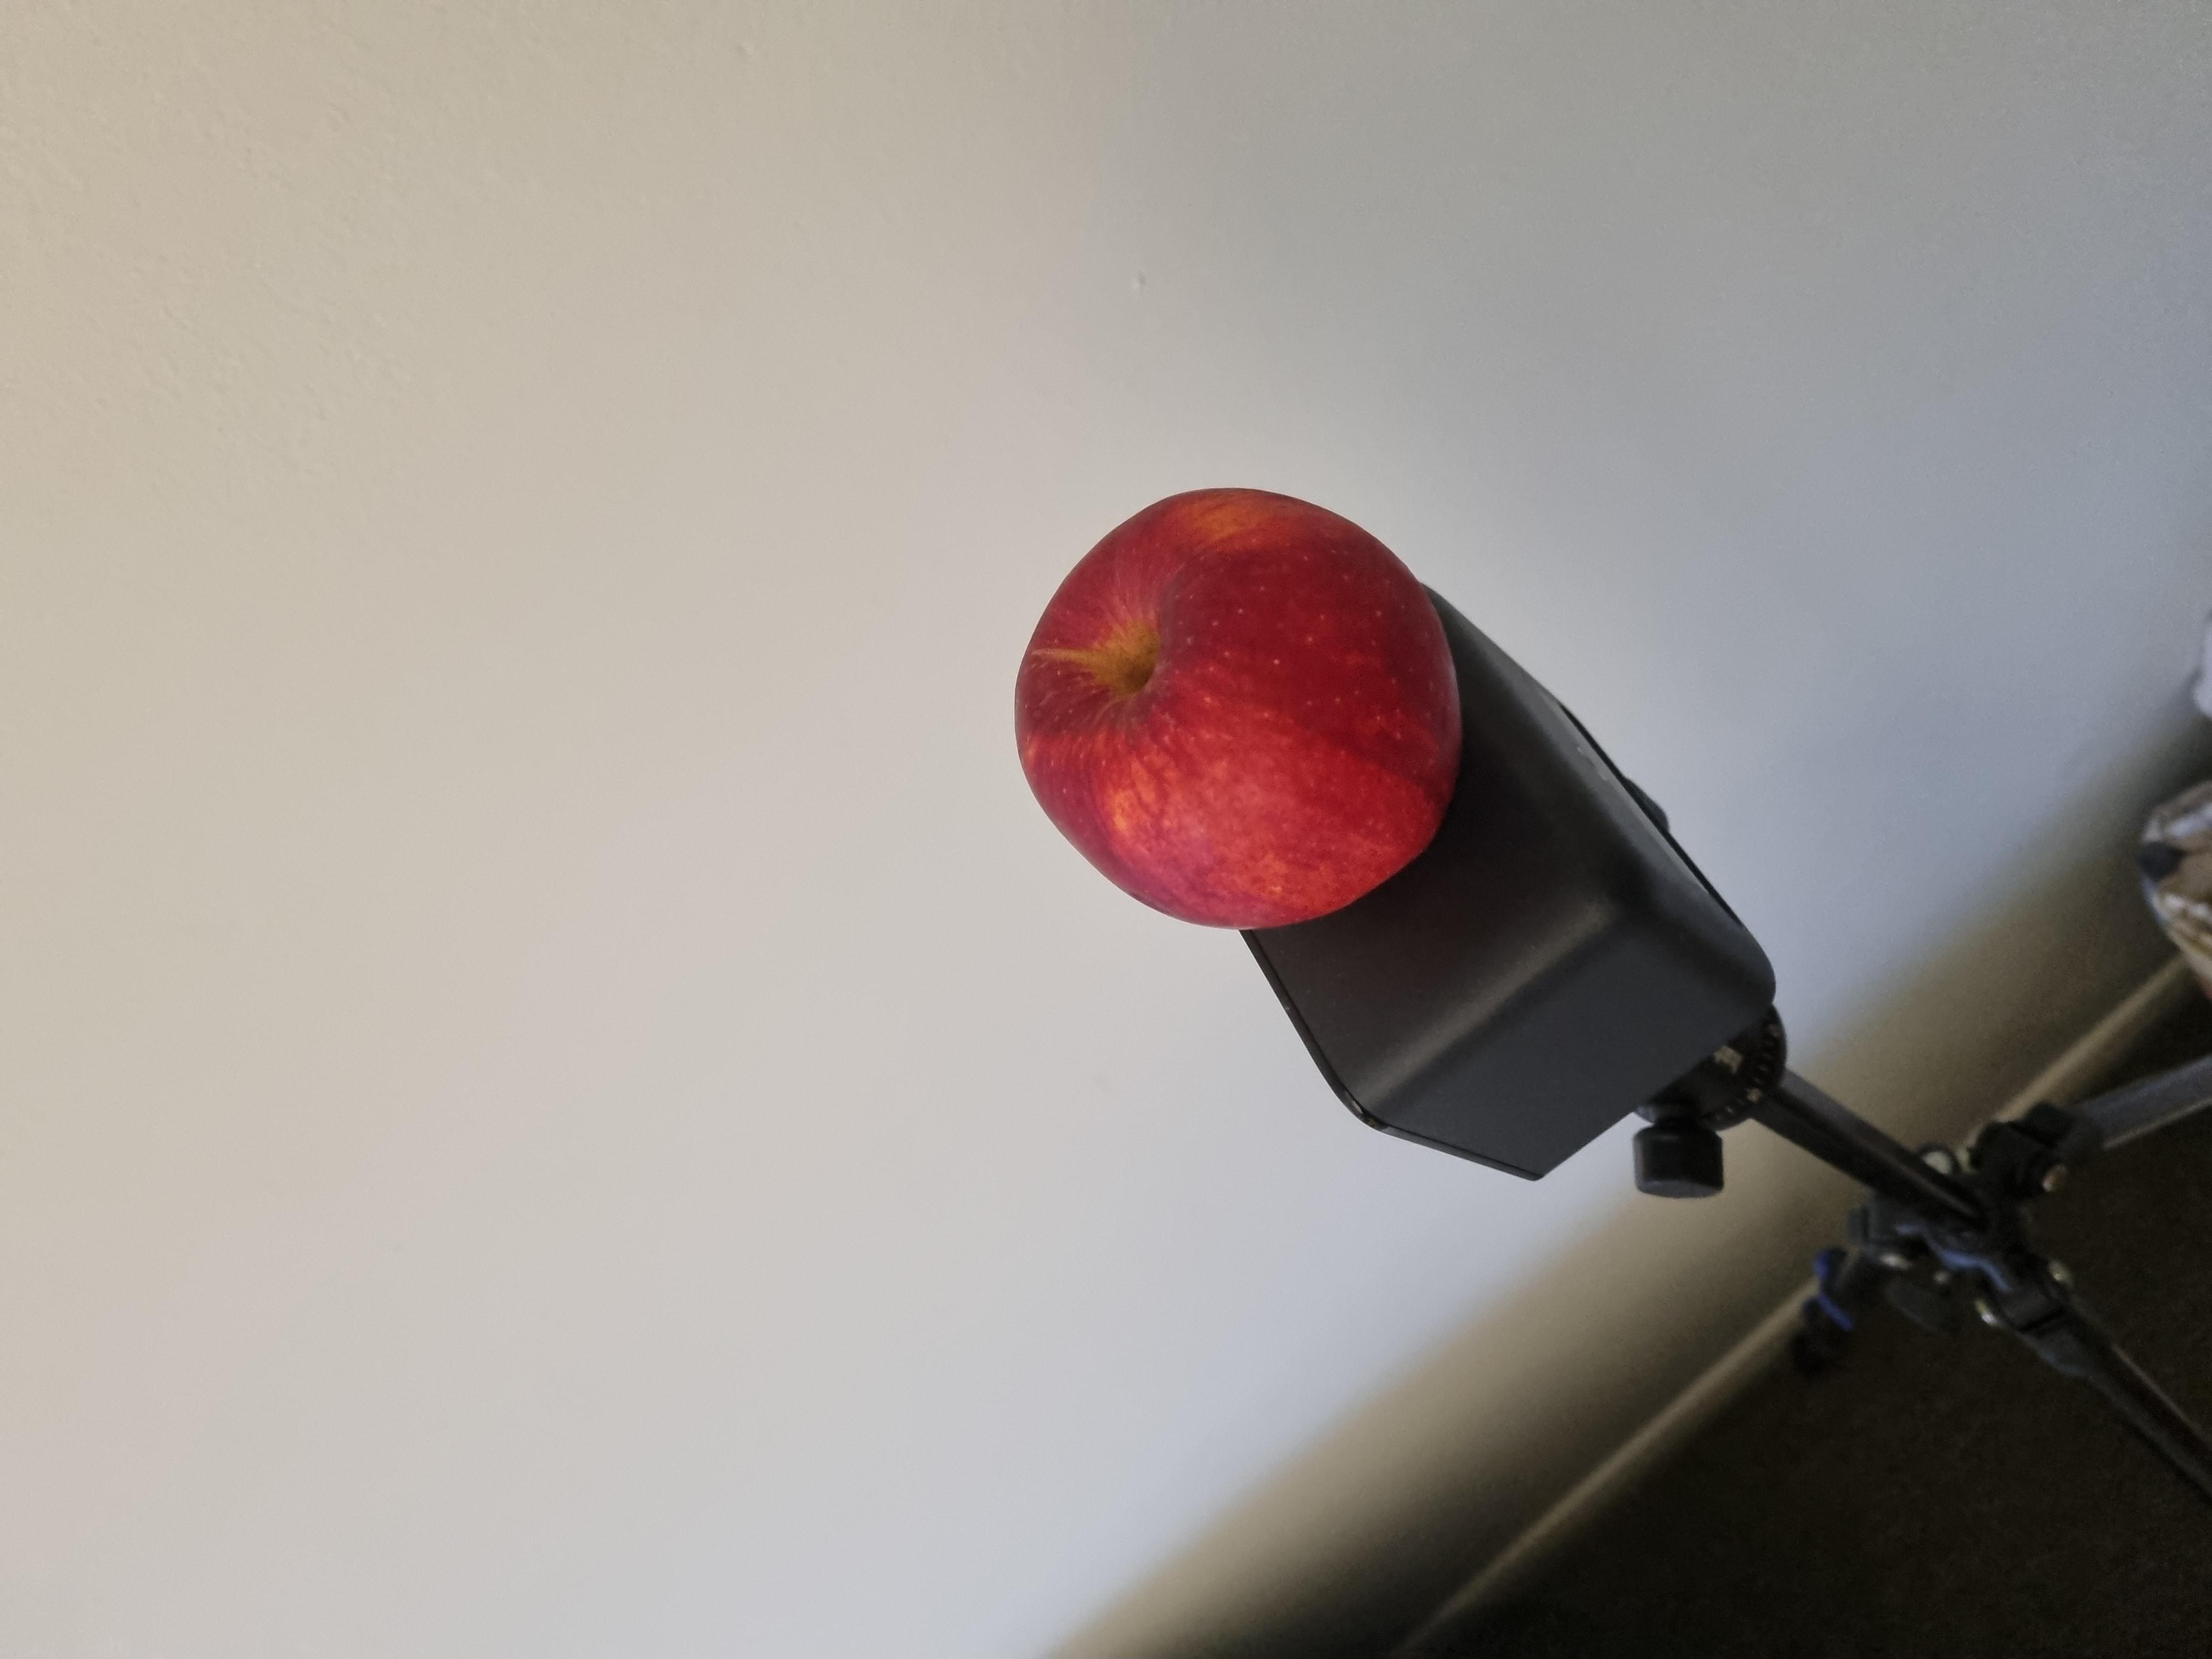Apple: (939, 746, 1612, 1116)
